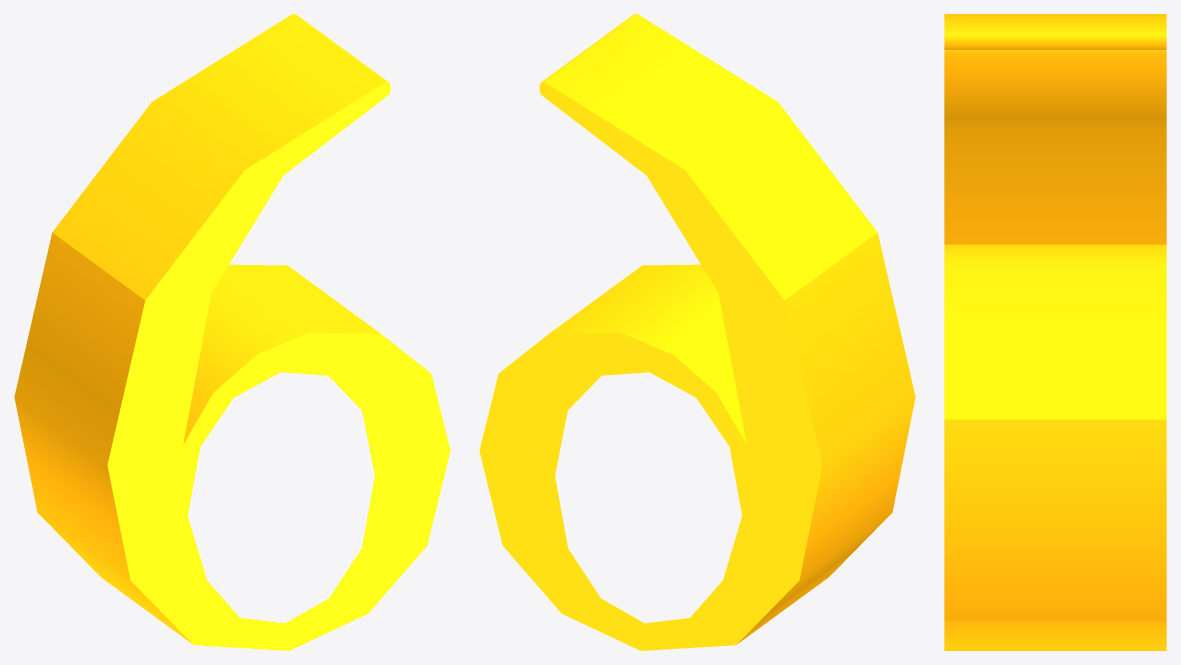
The picture shows the model from 3 angles, left to right: view 1: azimuth 30°, elevation 25°; view 2: azimuth 150°, elevation 25°; view 3: azimuth 270°, elevation 25°; orthographic projection. The views are drawn at different scales.
Visible parts, largest first — view 1: 6_Soul_Yellow; view 2: 6_Soul_Yellow; view 3: 6_Soul_Yellow.
Boxes of the visible parts, x1,y1,x2,y2 form: 6_Soul_Yellow: (14,14,450,650); 6_Soul_Yellow: (479,14,915,650); 6_Soul_Yellow: (944,14,1166,650).
Size of what is drawn, in the model's own units: 0.0958 by 0.1455 by 0.045.
Materials: 2 (2 with a texture image).
